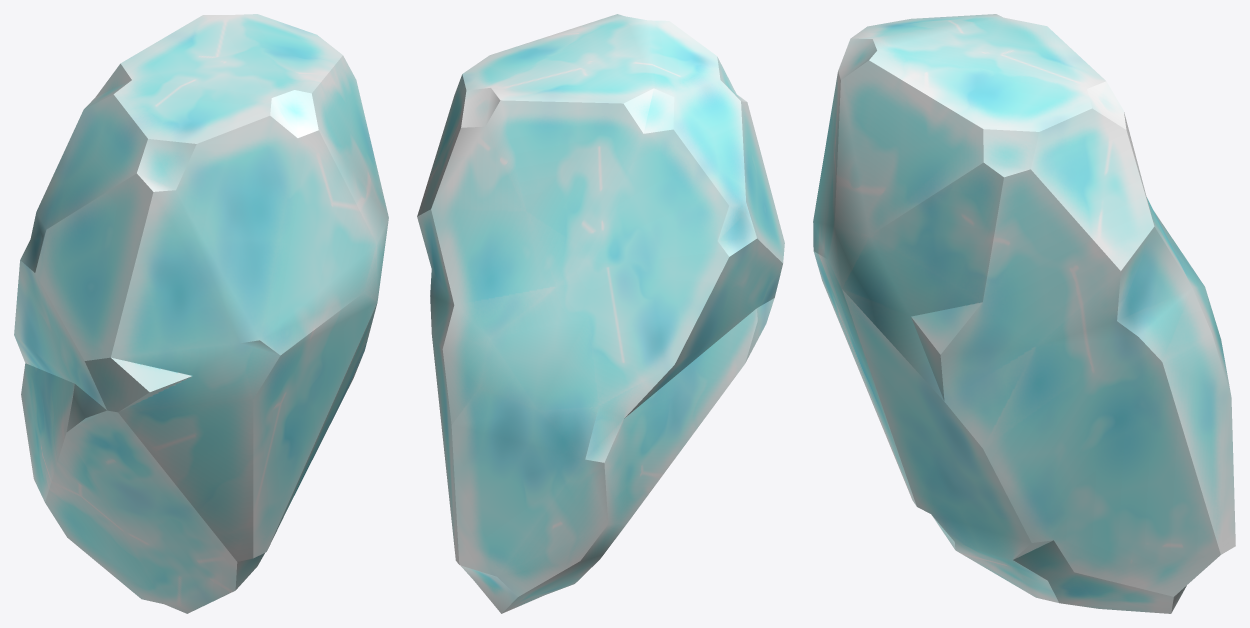
The model's file is smash_diamond_01.glb.
3 renders of one model, left to right at view 1: azimuth 30°, elevation 25°; view 2: azimuth 150°, elevation 25°; view 3: azimuth 270°, elevation 25°, orthographic. The views are drawn at different scales.
Parts seen in each view (by area): view 1: Cube.003; view 2: Cube.003; view 3: Cube.003.
Boxes of the visible parts, x1=… form: Cube.003: x1=14, y1=14, x2=388, y2=613; Cube.003: x1=417, y1=14, x2=784, y2=613; Cube.003: x1=813, y1=14, x2=1235, y2=613.
Bounding box in the file's own units: 3.02 × 5.11 × 3.44.
1 material, 1 textured.
